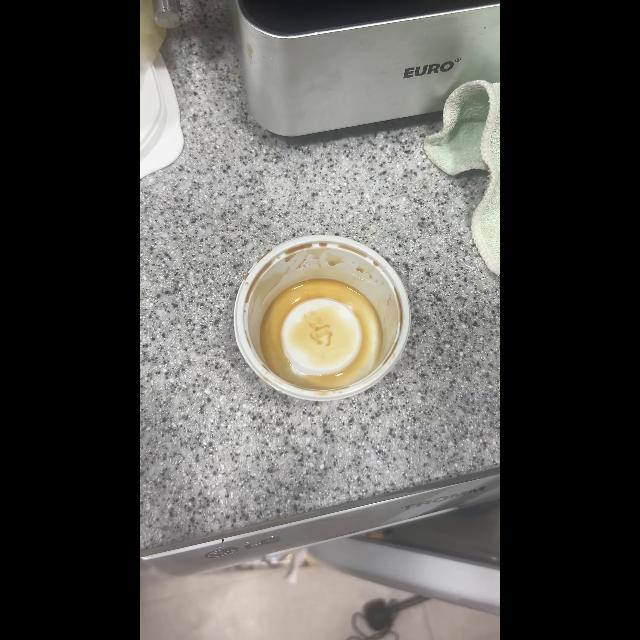dirty: (233, 234, 411, 400)
